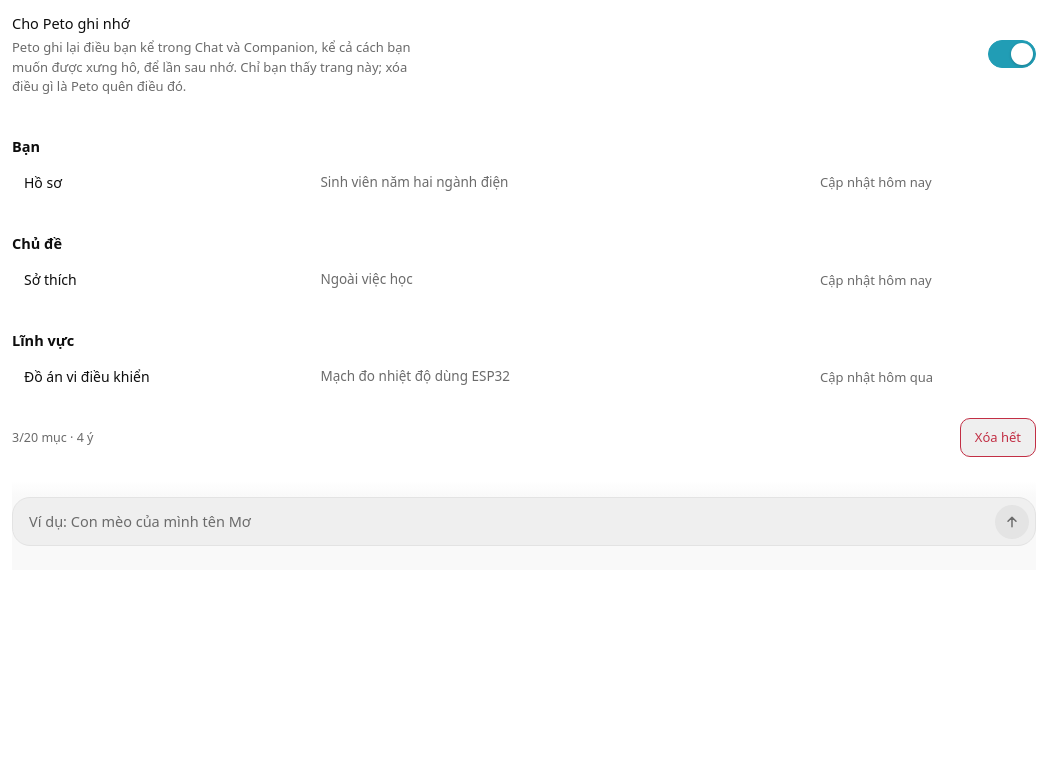
it: Xóa hết phải xác nhận; Giữ lại thì thôi, xác nhận thì trí nhớ trống
Check: the text "Sinh viên năm hai ngành điện" is shown, box [320,173,508,191]
Click the button "Xóa hết" at (998, 438), box [960,418,1036,457]
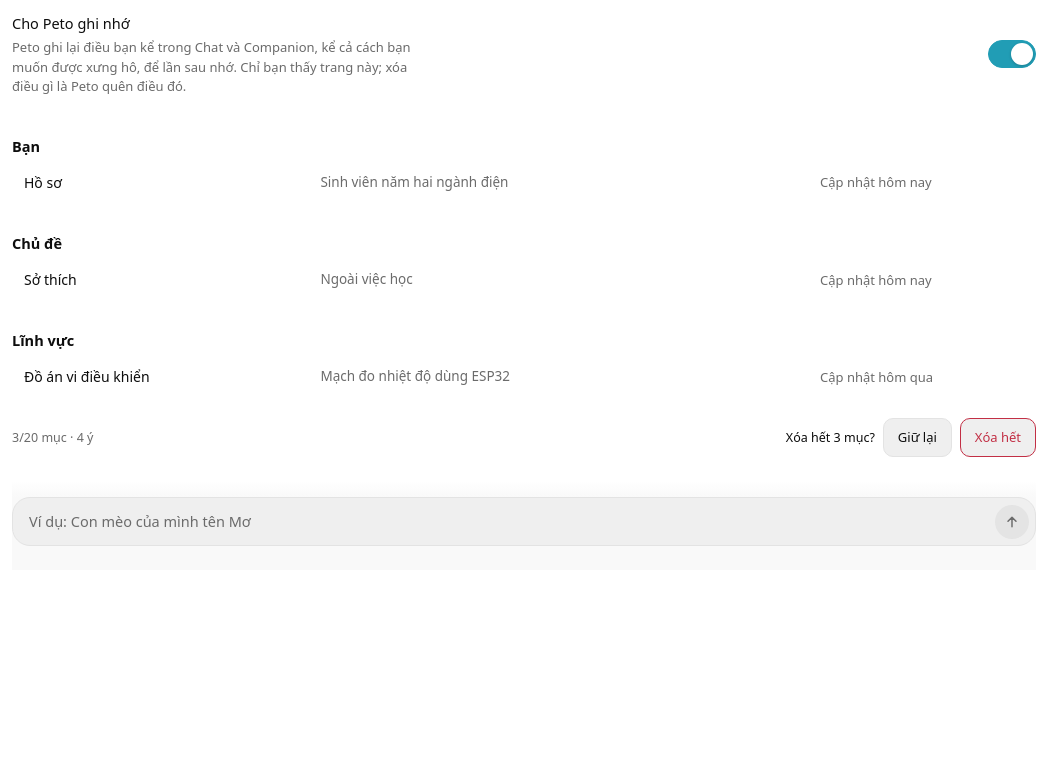
Check: the element named "Xác nhận xóa hết" shows "Xóa hết 3 mục?", box [786,418,1036,457]
Click the button "Giữ lại" at (917, 438), box [883,418,952,457]
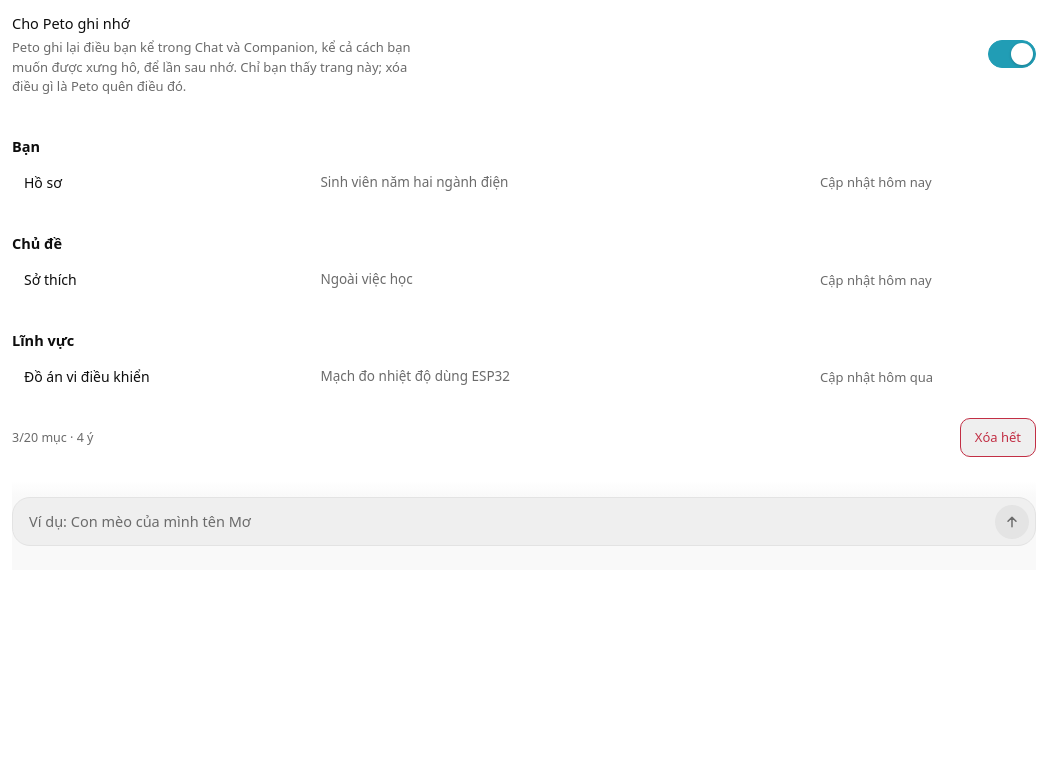
Click the button "Xóa hết" at (998, 438), box [960,418,1036,457]
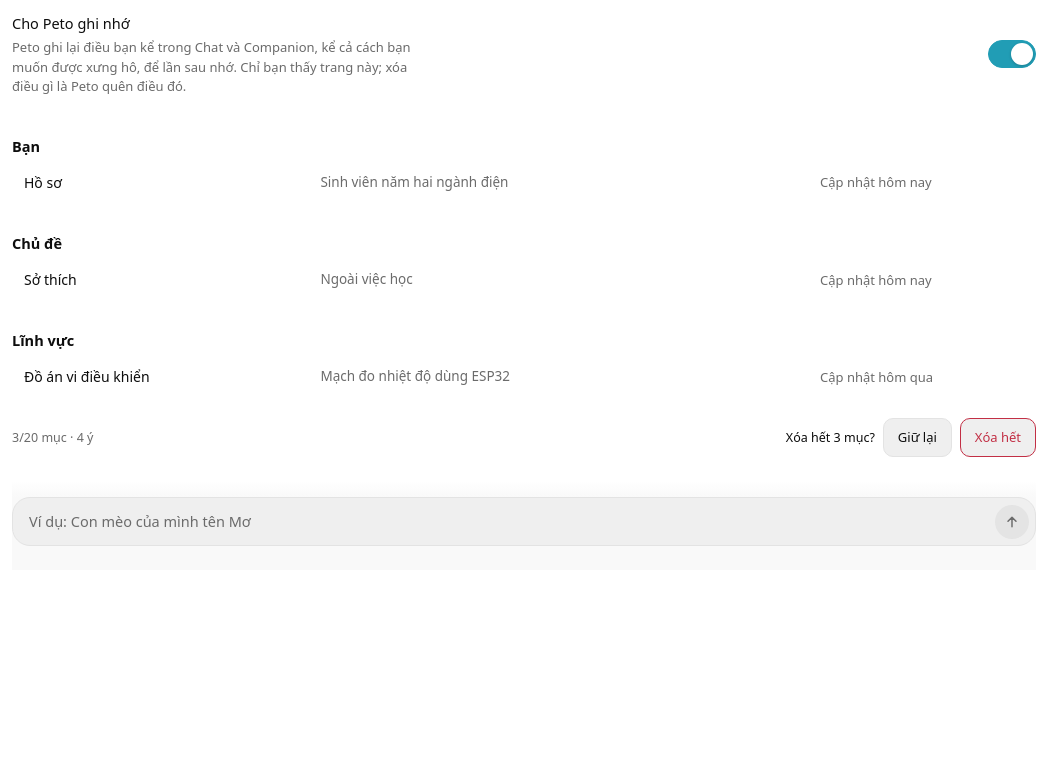
Click the button "Xóa hết" at (998, 438), box [960,418,1036,457]
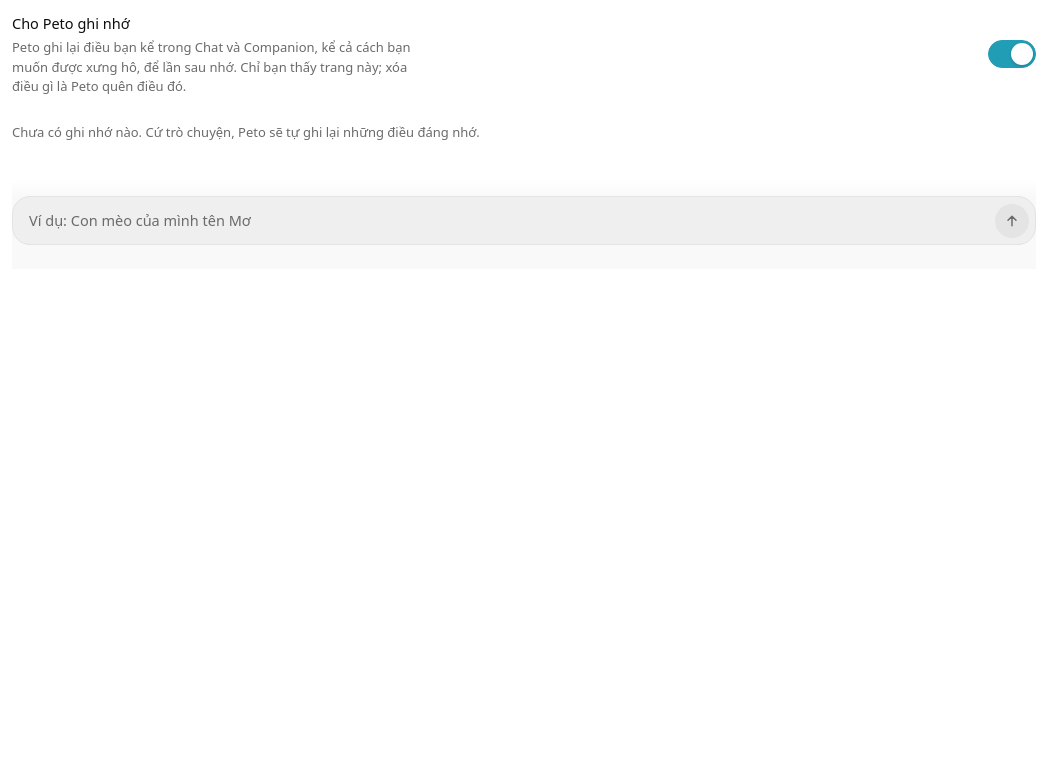
Check: the text "Chưa có ghi nhớ nào" is shown, box [12,123,480,141]
Check: the list is gone
